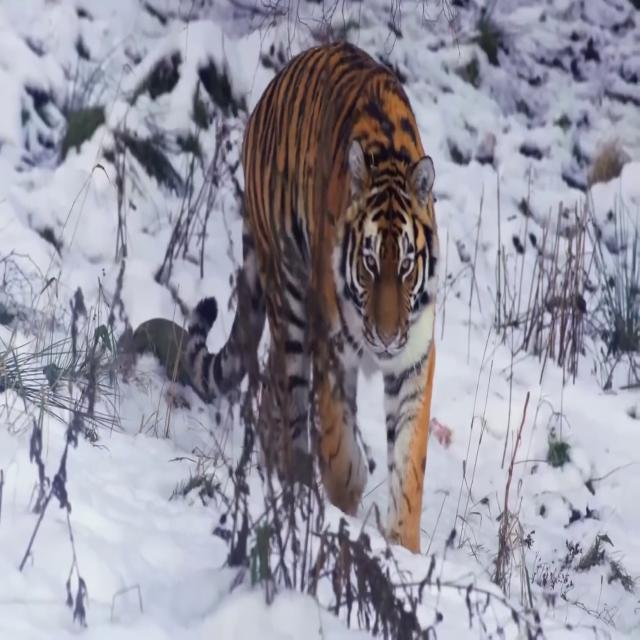tiger: (186, 40, 442, 556)
